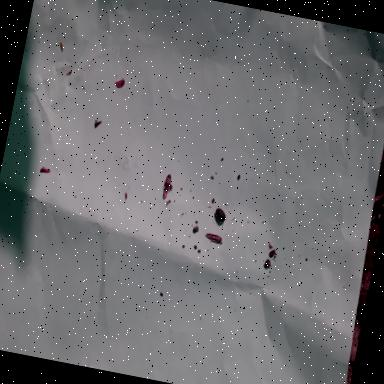pbw: (161, 174, 175, 200), (205, 233, 223, 244), (92, 120, 102, 130), (122, 191, 129, 204), (40, 166, 51, 174)
